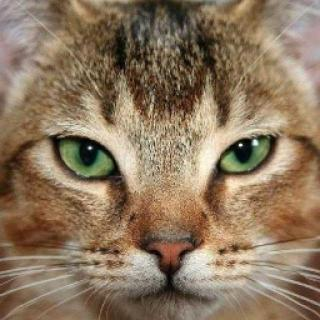cat: (6, 0, 320, 320)
nose: (138, 216, 202, 282)
